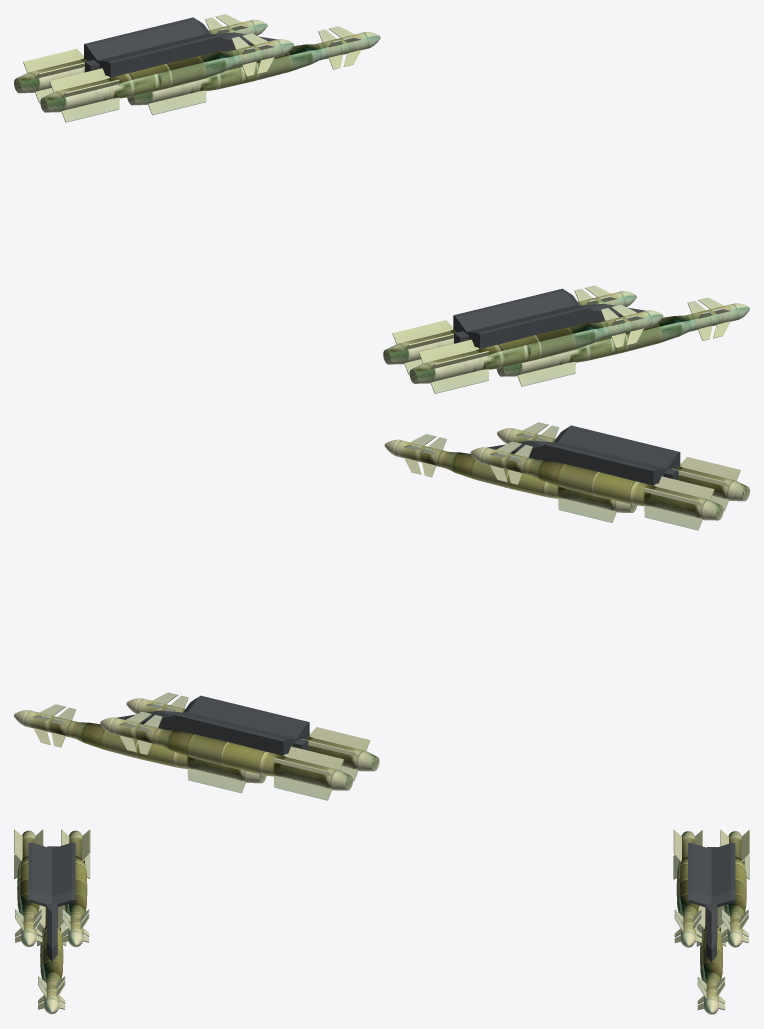
The model's file is rafaleaasm141.glb.
3 views of the same model, one above another, from view 1: azimuth 30°, elevation 25°; view 2: azimuth 150°, elevation 25°; view 3: azimuth 270°, elevation 25° (orthographic). The views are drawn at different scales.
Parts seen in each view (by area): view 1: 円柱.002, 円柱.004, 立方体.003, 立方体.001, 円柱.005, 円柱.006, 円柱.003, 円柱.008; view 2: 円柱.003, 円柱.008, 立方体.003, 立方体.001, 円柱.006, 円柱.005, 円柱.002, 円柱.004; view 3: 立方体.001, 立方体.003, 円柱.003, 円柱.004, 円柱.008, 円柱.002, 円柱.005, 円柱.006.
Part boxes in pixels (<box>): 円柱.002: <box>40,33,293,122</box>; 円柱.004: <box>409,304,663,393</box>; 立方体.003: <box>84,17,277,77</box>; 立方体.001: <box>453,288,646,348</box>; 円柱.005: <box>496,297,749,386</box>; 円柱.006: <box>127,26,380,115</box>; 円柱.003: <box>383,285,636,374</box>; 円柱.008: <box>14,14,267,103</box>; 円柱.003: <box>470,441,723,530</box>; 円柱.008: <box>100,711,353,800</box>; 立方体.003: <box>117,695,309,755</box>; 立方体.001: <box>487,425,680,485</box>; 円柱.006: <box>14,704,266,793</box>; 円柱.005: <box>384,434,637,522</box>; 円柱.002: <box>126,692,379,781</box>; 円柱.004: <box>497,422,749,511</box>; 立方体.001: <box>28,842,75,961</box>; 立方体.003: <box>688,843,735,962</box>; 円柱.003: <box>61,829,90,947</box>; 円柱.004: <box>14,829,43,947</box>; 円柱.008: <box>720,830,749,947</box>; 円柱.002: <box>673,830,702,947</box>; 円柱.005: <box>37,905,66,1014</box>; 円柱.006: <box>696,905,726,1014</box>.
Bounding box in the file's own units: 3.26 × 0.5983 × 6.65.
Materials: 4 (2 with a texture image).
